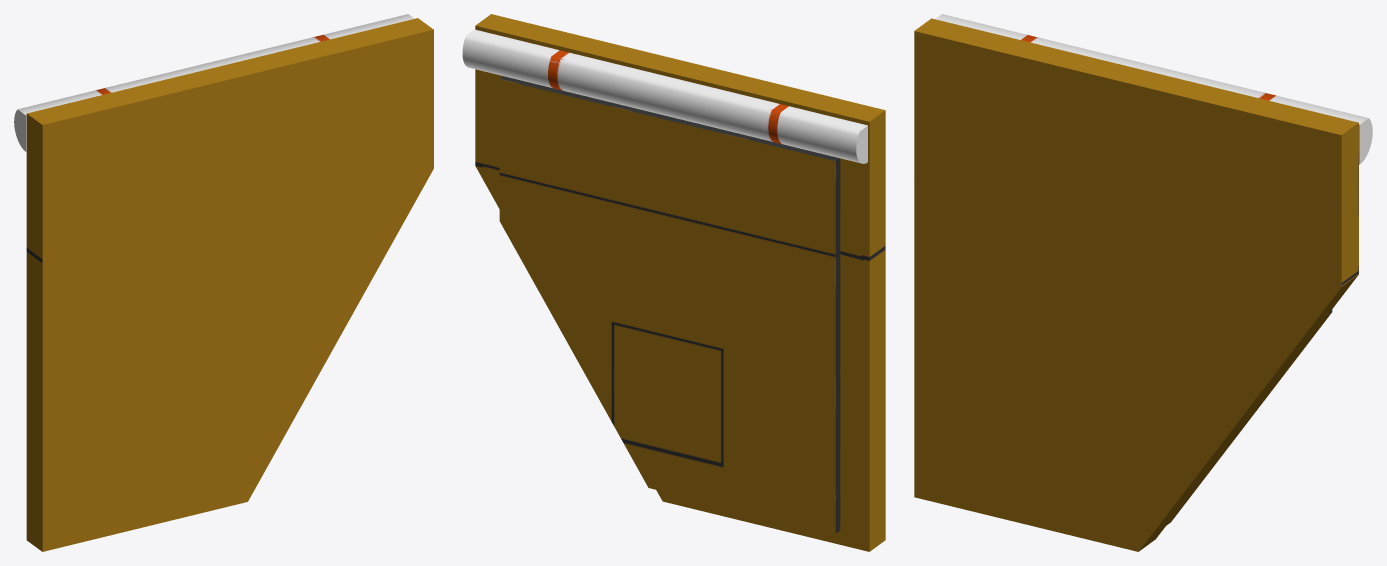
The model's file is wallTextCornerLeft.fbx.
3 views of the same model, side by side, from view 1: azimuth 30°, elevation 25°; view 2: azimuth 150°, elevation 25°; view 3: azimuth 330°, elevation 25° (orthographic). The views are drawn at different scales.
Visible parts, largest first — view 1: wall, Cylinder; view 2: wall, Cylinder; view 3: wall, Cylinder.
Boxes of the visible parts, x1,y1,x2,y2 form: wall: (26, 18, 433, 551); Cylinder: (14, 14, 414, 151); wall: (475, 14, 885, 551); Cylinder: (462, 29, 867, 163); wall: (914, 18, 1358, 551); Cylinder: (935, 14, 1372, 164).
Size of the model in its own units: 262 by 273 by 33.41.
Materials: 2 (2 with a texture image).
